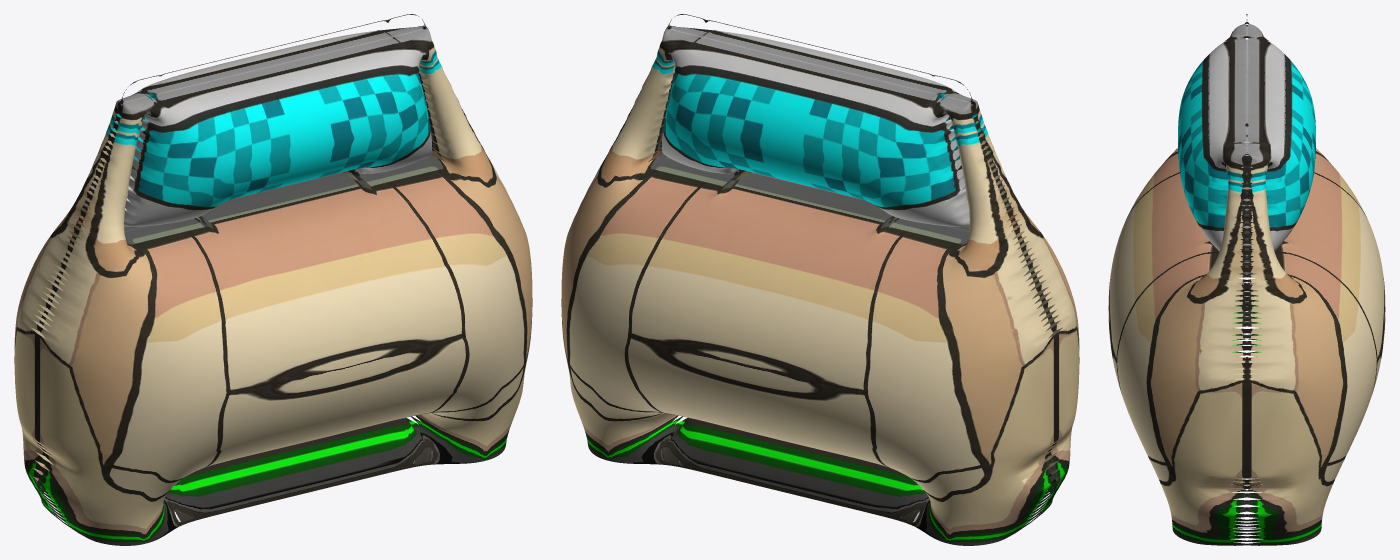
Rendered from command_console.glb.
3 renders of one model, left to right at view 1: azimuth 30°, elevation 25°; view 2: azimuth 150°, elevation 25°; view 3: azimuth 270°, elevation 25°, orthographic. The views are drawn at different scales.
Parts seen in each view (by area): view 1: command_console; view 2: command_console; view 3: command_console.
Boxes of the visible parts, bbox=[...] form: command_console: bbox=[14, 14, 532, 545]; command_console: bbox=[561, 14, 1079, 545]; command_console: bbox=[1108, 14, 1385, 545].
Bounding box in the file's own units: 0.989 × 0.8503 × 0.5614.
Materials: 1 (1 with a texture image).
